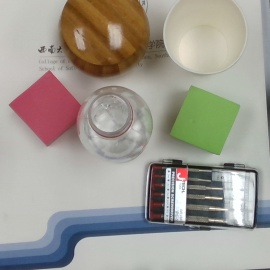bottle: (77, 85, 153, 164)
chess: (57, 1, 150, 77)
cup: (163, 1, 249, 75)
